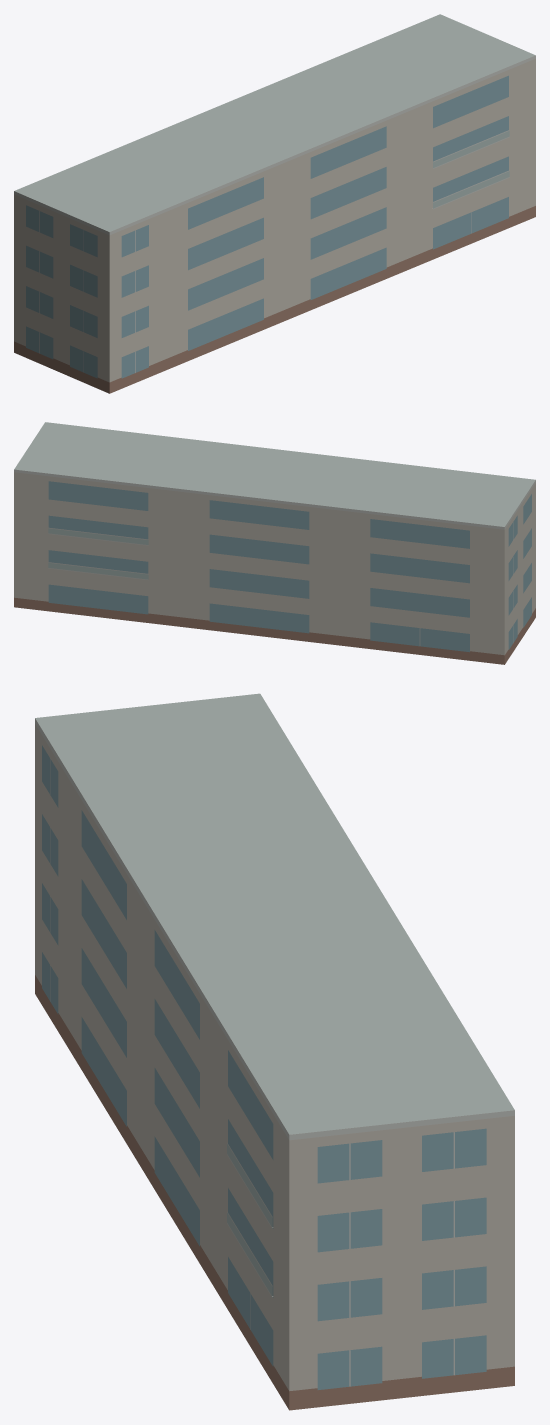
The model's file is residential-c781ef59-2096-437c-961f-a7e5a310ab0b.glb.
3 renders of one model, top to bottom at view 1: azimuth 30°, elevation 25°; view 2: azimuth 150°, elevation 25°; view 3: azimuth 270°, elevation 25°, orthographic. The views are drawn at different scales.
Parts seen in each view (by area): view 1: residential-c781ef59-2096-437c-961f-a7e5a310ab0b.tmp; view 2: residential-c781ef59-2096-437c-961f-a7e5a310ab0b.tmp; view 3: residential-c781ef59-2096-437c-961f-a7e5a310ab0b.tmp.
Boxes of the visible parts, box(x1,y1,x2,y2) form: residential-c781ef59-2096-437c-961f-a7e5a310ab0b.tmp: box(14, 14, 535, 393); residential-c781ef59-2096-437c-961f-a7e5a310ab0b.tmp: box(14, 422, 535, 664); residential-c781ef59-2096-437c-961f-a7e5a310ab0b.tmp: box(35, 693, 514, 1410).
Size of the model in its own units: 41.91 by 12.2 by 19.27.
